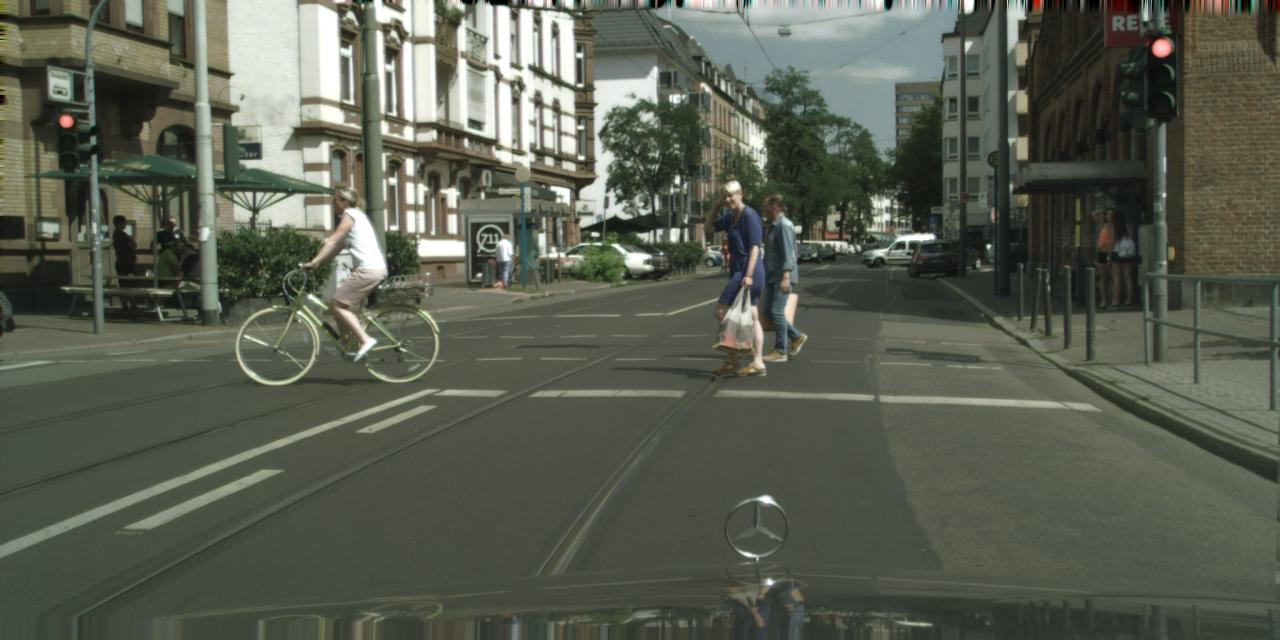ped: (699, 180, 779, 374), (746, 191, 816, 361), (309, 184, 379, 354), (1091, 208, 1131, 306), (1100, 210, 1140, 308), (105, 215, 143, 308), (152, 216, 189, 307), (494, 234, 515, 286), (721, 240, 730, 264)
